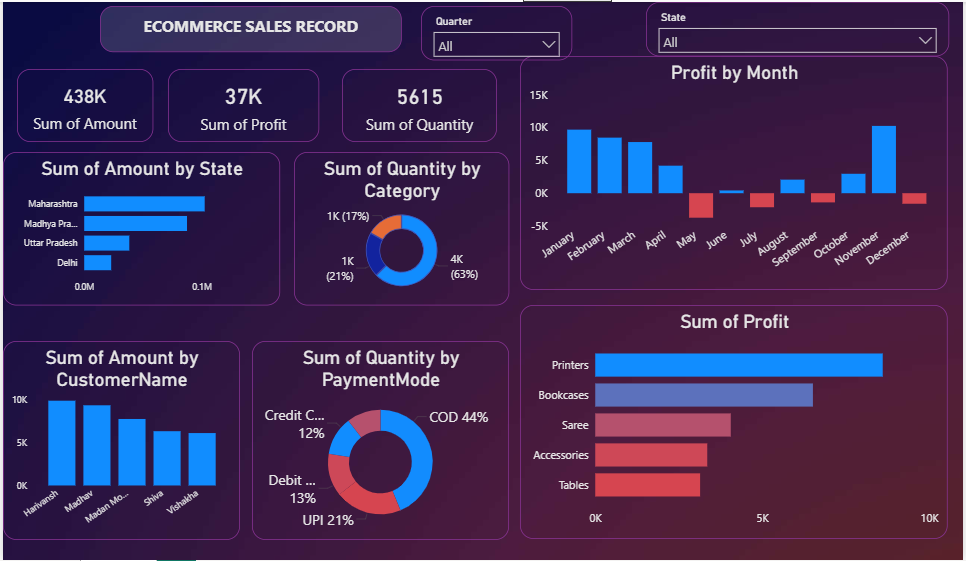

The dashboard page shown, as its layout file describes it:
{"tool":"powerbi","page":{"name":"Page 1","canvas":[1289,749],"ordinal":0},"visuals":[{"type":"textbox","box":[130,5,405,61.7],"z":0},{"type":"columnChart","title":"Profit by Month","fields":{"Category":["Orders.Order Date.Variation.Date Hierarchy.Month"],"Y":["Details.Profit"]},"box":[694.3,72.6,574.4,314.2],"z":1000},{"type":"clusteredBarChart","title":"Sum of Profit","fields":{"Category":["Details.Sub-Category"],"Y":["Details.Profit"]},"box":[694.3,407.1,574.4,314.2],"z":2000},{"type":"clusteredBarChart","fields":{"Category":["Orders.State"],"Y":["Details.Amount"]},"box":[0,201,371.7,206.1],"z":3000},{"type":"donutChart","fields":{"Y":["Details.Quantity"],"Category":["Details.Category"]},"box":[390.2,201,288.9,206.1],"z":4000},{"type":"clusteredColumnChart","fields":{"Category":["Orders.CustomerName"],"Y":["Details.Amount"]},"box":[0,454.4,317.6,266.9],"z":5000},{"type":"donutChart","fields":{"Y":["Details.Quantity"],"Category":["Details.PaymentMode"]},"box":[334.5,454.4,344.6,266.9],"z":6000},{"type":"card","fields":{"Values":["Details.Amount"]},"box":[19,89.7,182.9,86.3],"z":7000},{"type":"card","fields":{"Values":["Details.Profit"]},"box":[220.9,89.7,203.6,98.4],"z":8000},{"type":"card","fields":{"Values":["Details.Quantity"]},"box":[455.6,89.7,207.1,86.3],"z":9000},{"type":"slicer","fields":{"Values":["Orders.Order Date.Variation.Date Hierarchy.Quarter"]},"box":[561.7,5,203.3,73.3],"z":10000},{"type":"slicer","fields":{"Values":["Orders.State"]},"box":[863.3,0,406.7,73.3],"z":11000}]}

Visuals, with their boxes in screenshot pixels (x1, y1, x2, y2), scaled from the page's 1289x749 canvas onto the 966x561 screenshot:
textbox: (97,4,401,50)
"Profit by Month" columnChart: (520,54,951,290)
"Sum of Profit" clusteredBarChart: (520,305,951,540)
clusteredBarChart - Orders.State x Details.Amount: (0,151,279,305)
donutChart - Details.Quantity x Details.Category: (292,151,509,305)
clusteredColumnChart - Orders.CustomerName x Details.Amount: (0,340,238,540)
donutChart - Details.Quantity x Details.PaymentMode: (251,340,509,540)
card - Details.Amount: (14,67,151,132)
card - Details.Profit: (166,67,318,141)
card - Details.Quantity: (341,67,497,132)
slicer - Orders.Order Date.Variation.Date Hierarchy.Quarter: (421,4,573,59)
slicer - Orders.State: (647,0,952,55)
